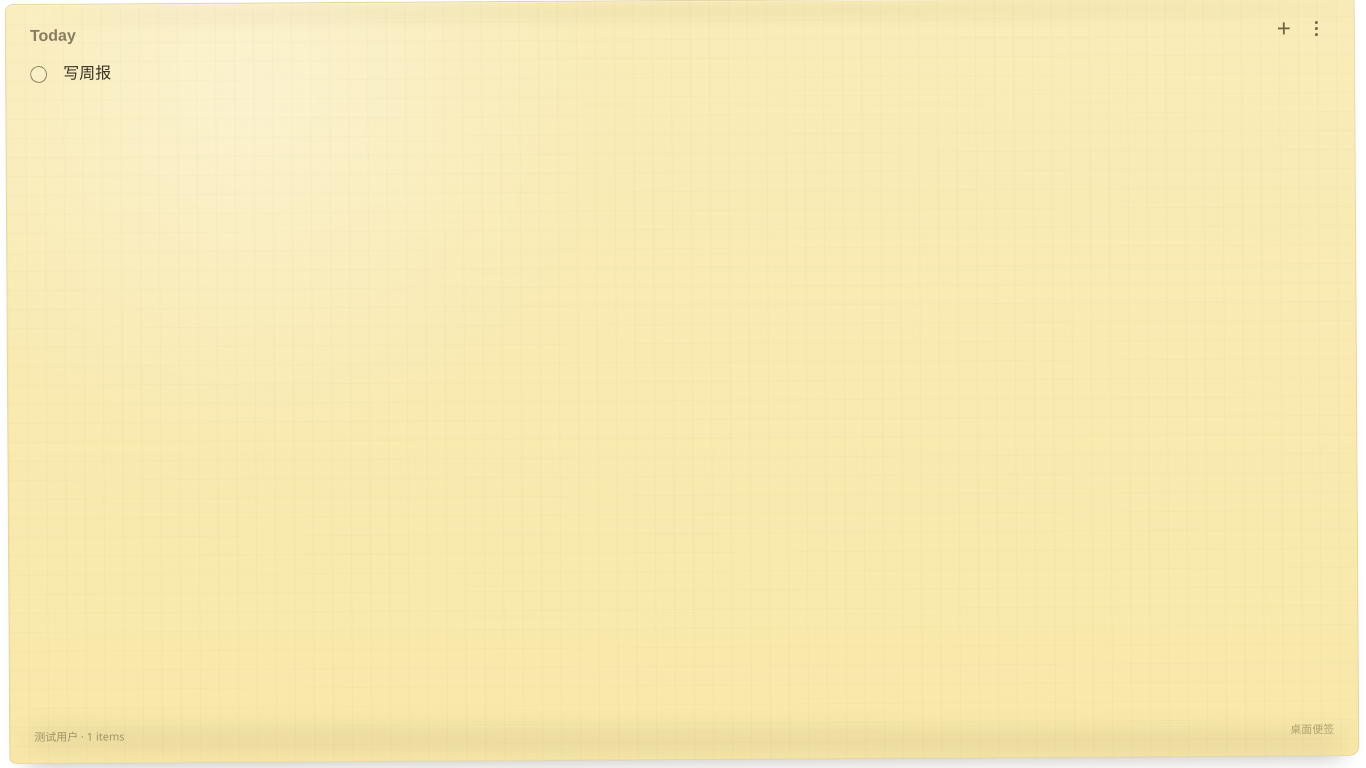
Test: 桌面便签核心交互 › 任务详情默认展示已添加节点，节点维护可直接进行
This screenshot has width=1366, height=768.
Click the button with class "task-main". click: (87, 73)
box: [63,55,1330,90]
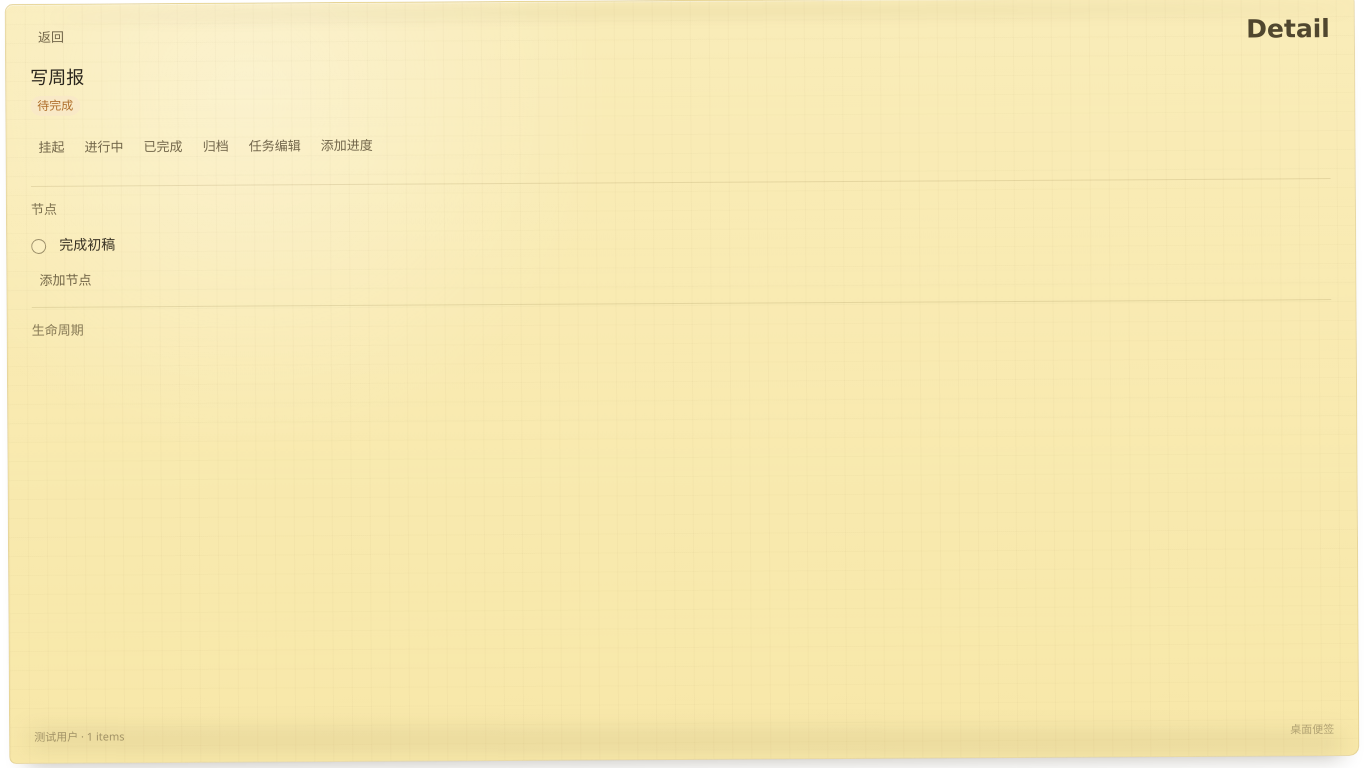
Expected: the element with class "milestone-section" is shown, [31,178,1331,295]
Expected: the element with class "milestone-section" shows "完成初稿"
# 点击节点行展开操作
Click the element with class "milestone-main". click: (87, 245)
box: [59,235,115,254]
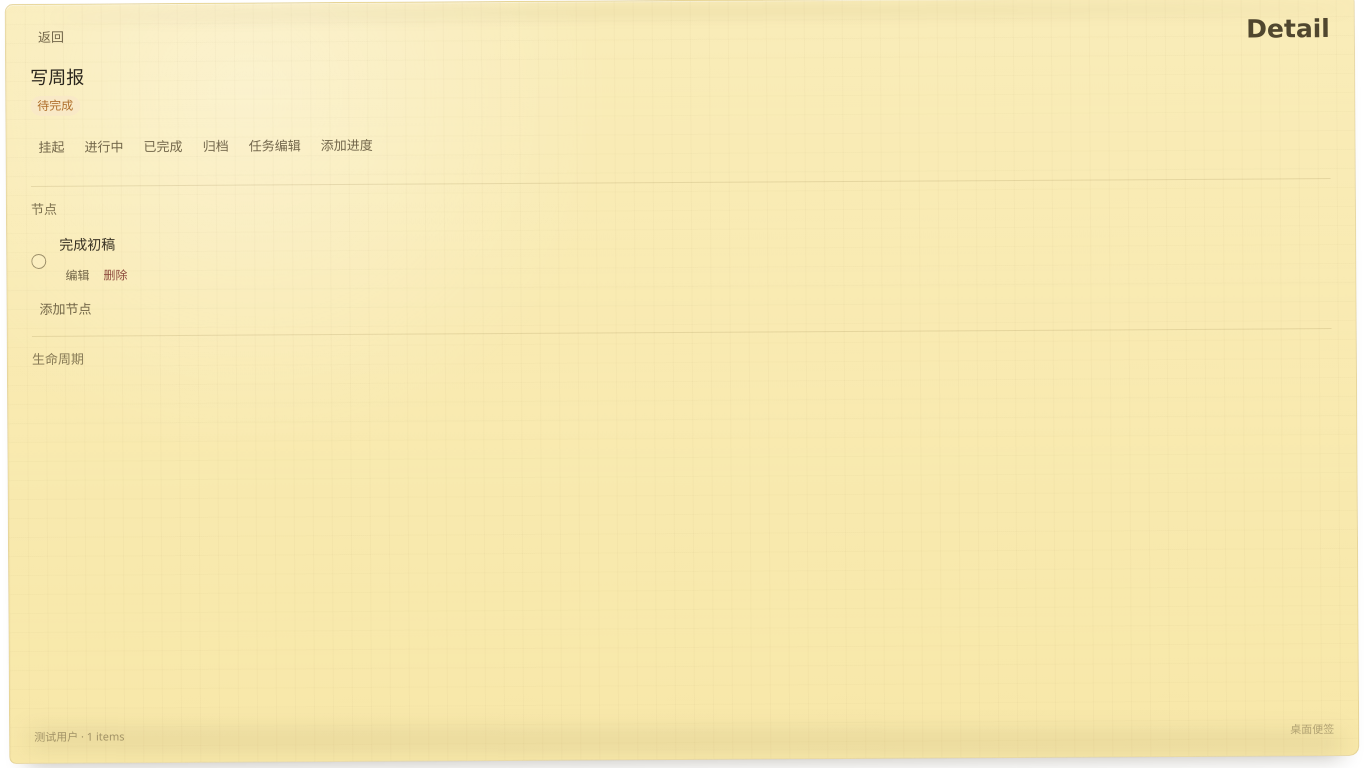
# 直接在详情页添加节点
Click the button "添加节点". click: (66, 309)
box: [32,293,100,324]
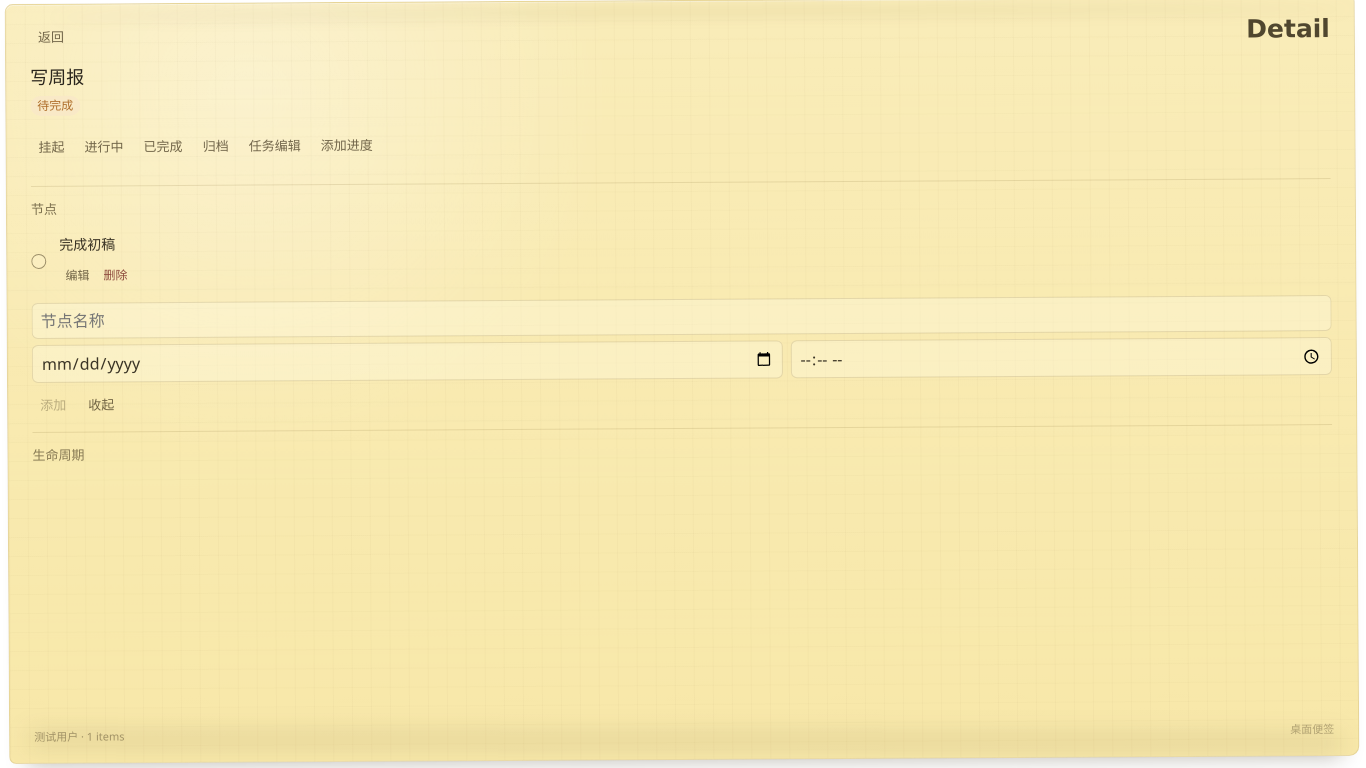
Expected: the form with class "milestone-form" is shown, [32,295,1332,420]
